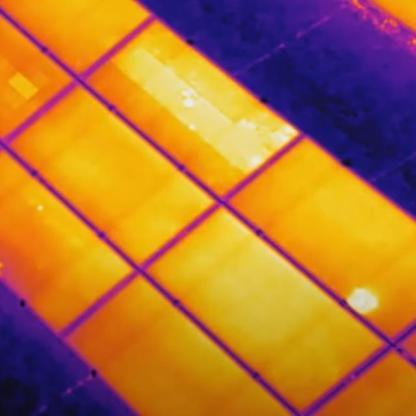anomaly: (114, 45, 293, 170), (344, 287, 380, 316)
